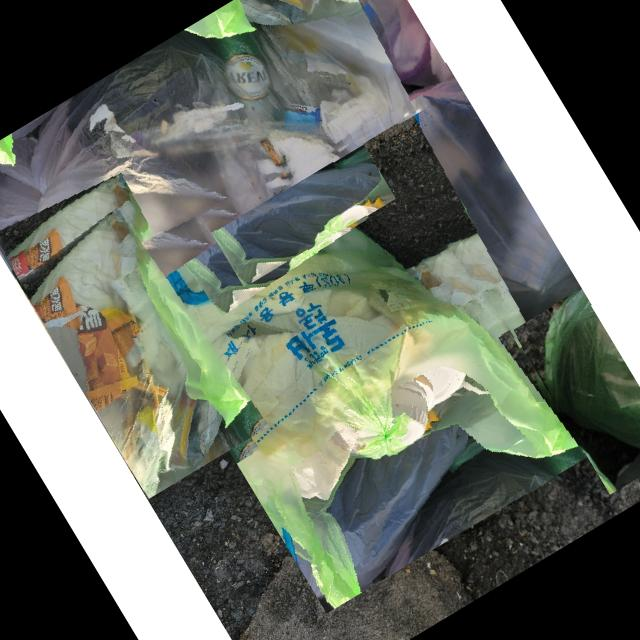general_trashbag: (117, 164, 578, 606), (29, 206, 219, 497), (191, 162, 379, 257), (544, 289, 640, 447)
other_trashbag: (0, 12, 415, 276), (390, 76, 577, 331), (339, 0, 447, 85)
